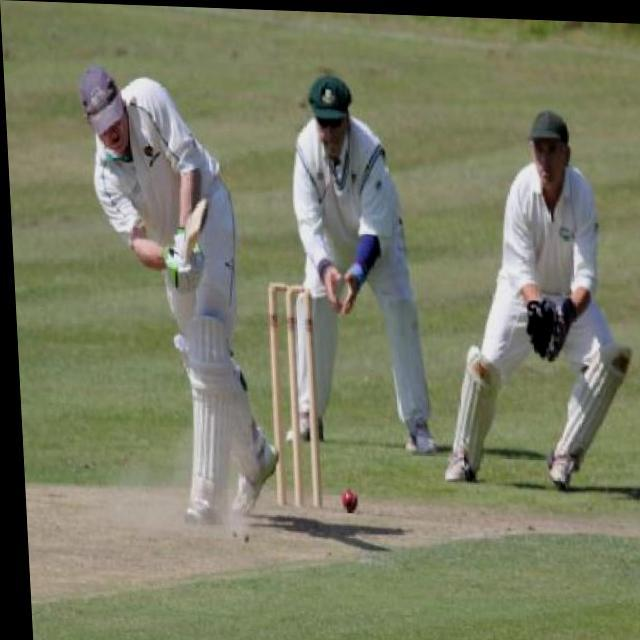-: (322, 453, 364, 546)
